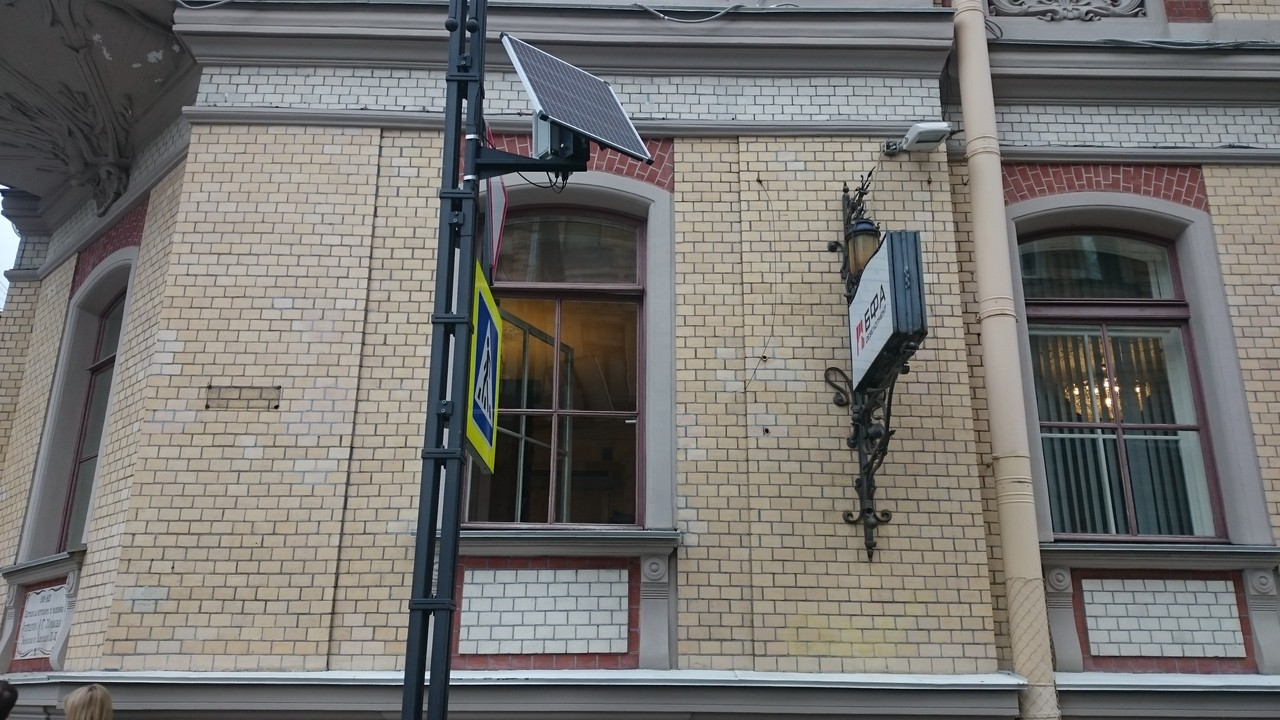cantilever: (816, 171, 918, 550)
window: (1017, 230, 1227, 543), (498, 205, 644, 528)
